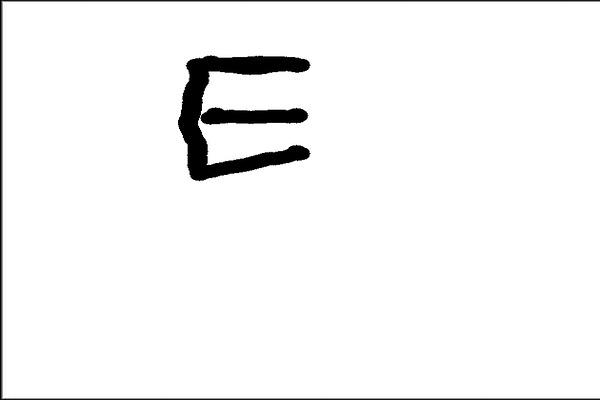E: (170, 50, 318, 185)
